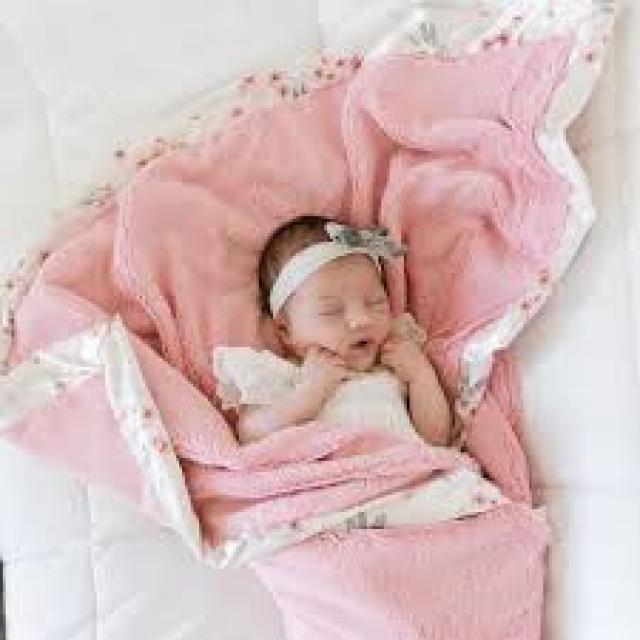blanket: (0, 0, 604, 640)
